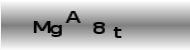8: (92, 21, 106, 34)
A: (64, 10, 81, 24)
M: (32, 20, 50, 33)
g: (49, 24, 62, 37)
t: (112, 26, 124, 39)
